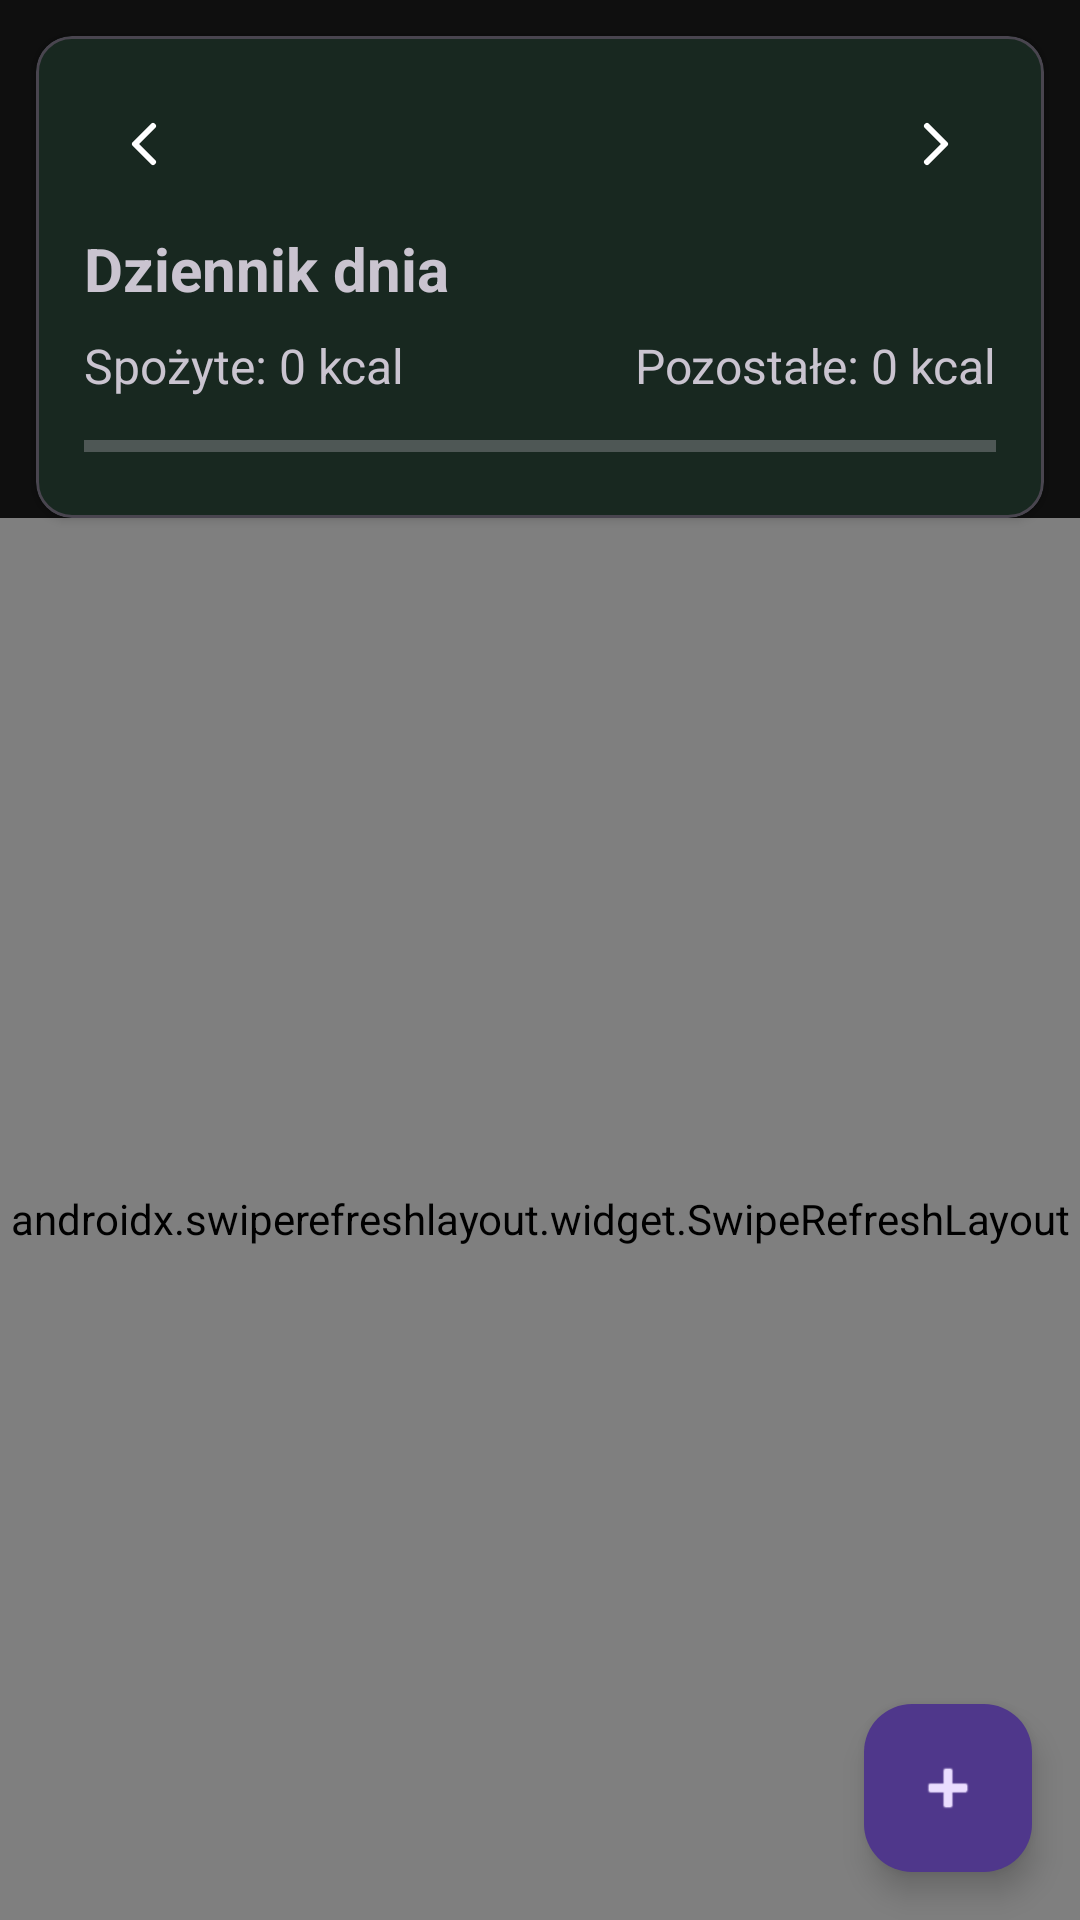

Icon click points for this 1080*1920 phone screenshot, format (x,y):
Dodaj wpis: (948,1788)
Next day: (936,144)
Previous day: (144,144)
